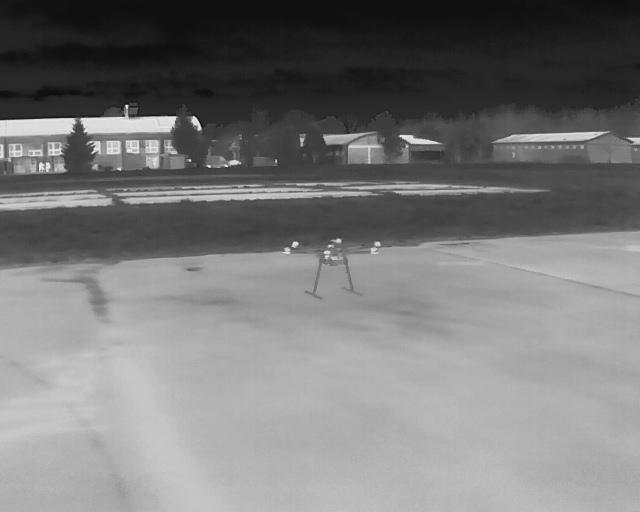drone: (274, 236, 382, 302)
